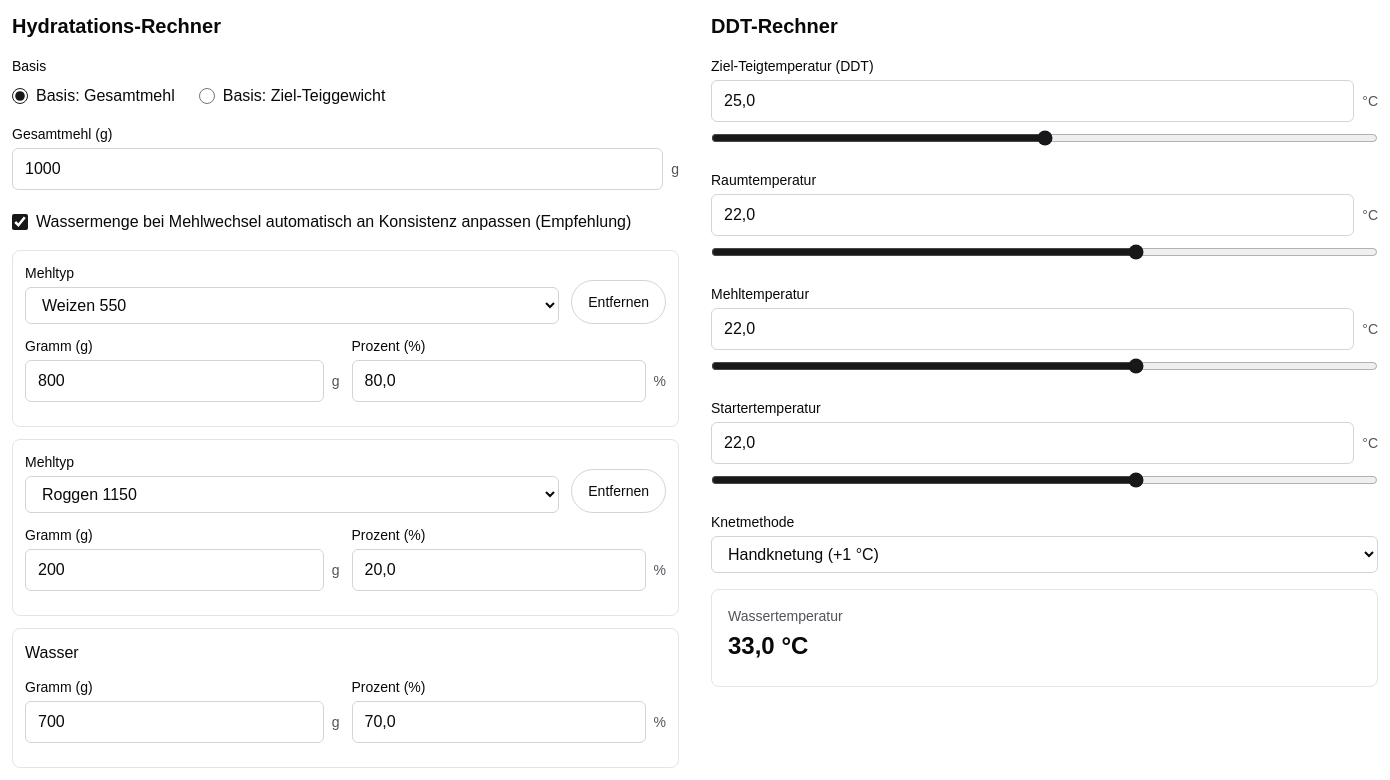
Scenario: F011 Mehltyp-Auswahl › F011/AC-1 die Auswahl funktioniert ohne Anmeldung und ohne Internetverbindung
Select "Dinkel 630" in the 1st dropdown labelled "Mehltyp": (292, 306) [25,287,559,324]
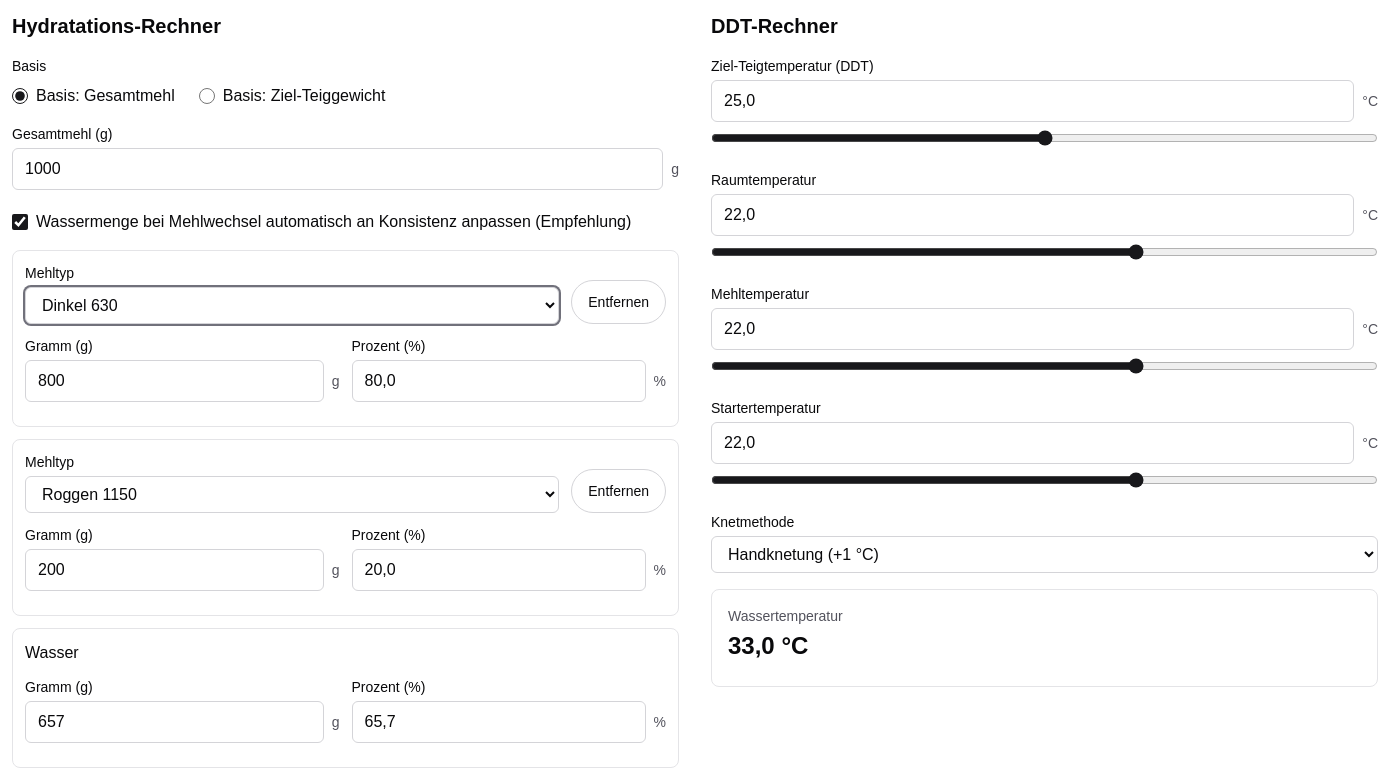
Check: the element named "Dinkel 630" is shown, box [12,250,679,427]
Check: the 3rd field labelled "Prozent (%)" holds "65,7", box [352,701,646,743]
Check: the 3rd field labelled "Gramm (g)" holds "657", box [25,701,324,743]
